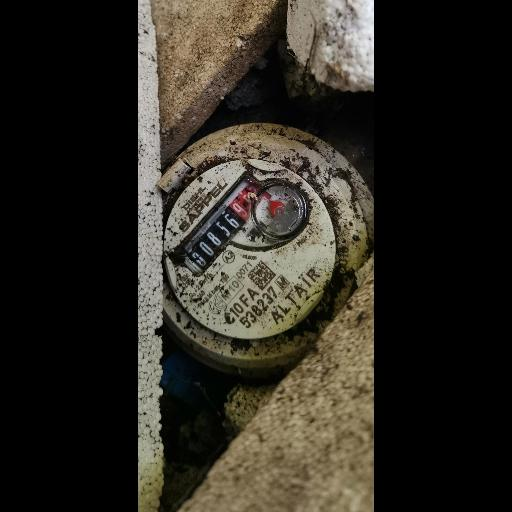0: (186, 246, 211, 271), (194, 236, 219, 260)
5: (210, 217, 236, 242), (235, 189, 258, 212)
6: (219, 206, 246, 232)
7: (244, 180, 262, 198)
8: (203, 227, 228, 252)
9: (228, 199, 253, 222)
border_water_meter_number: (172, 170, 275, 279)
